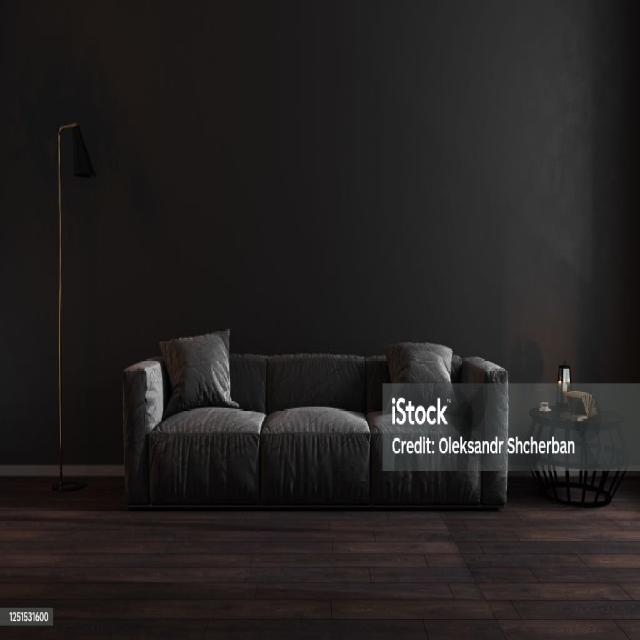back_cushion: (161, 330, 507, 423)
left_arm: (459, 357, 508, 502)
right_arm: (123, 359, 168, 502)
seat_cushion: (149, 393, 483, 503)
stallion-sofa1: (122, 330, 506, 507), (423, 344, 508, 434)
